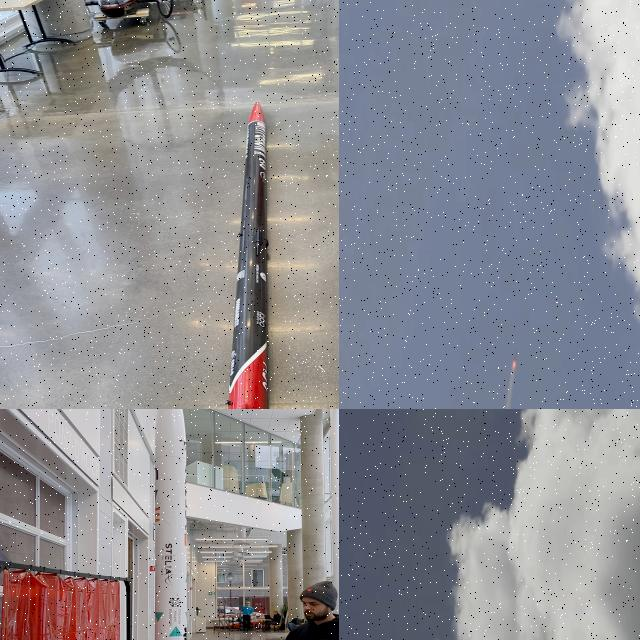Rocket: (227, 102, 268, 409), (154, 409, 187, 640), (512, 348, 518, 369)
